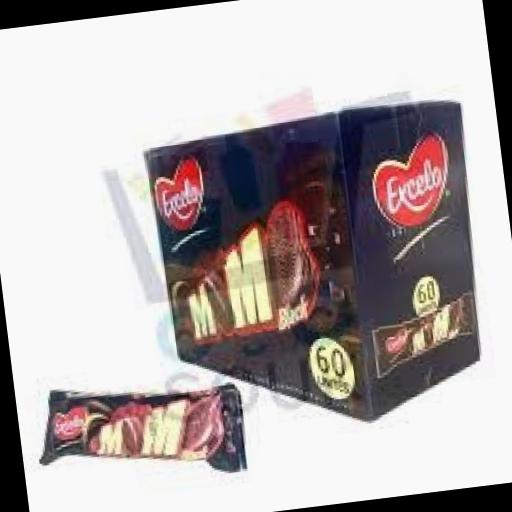MOMO: (27, 325, 266, 512)
